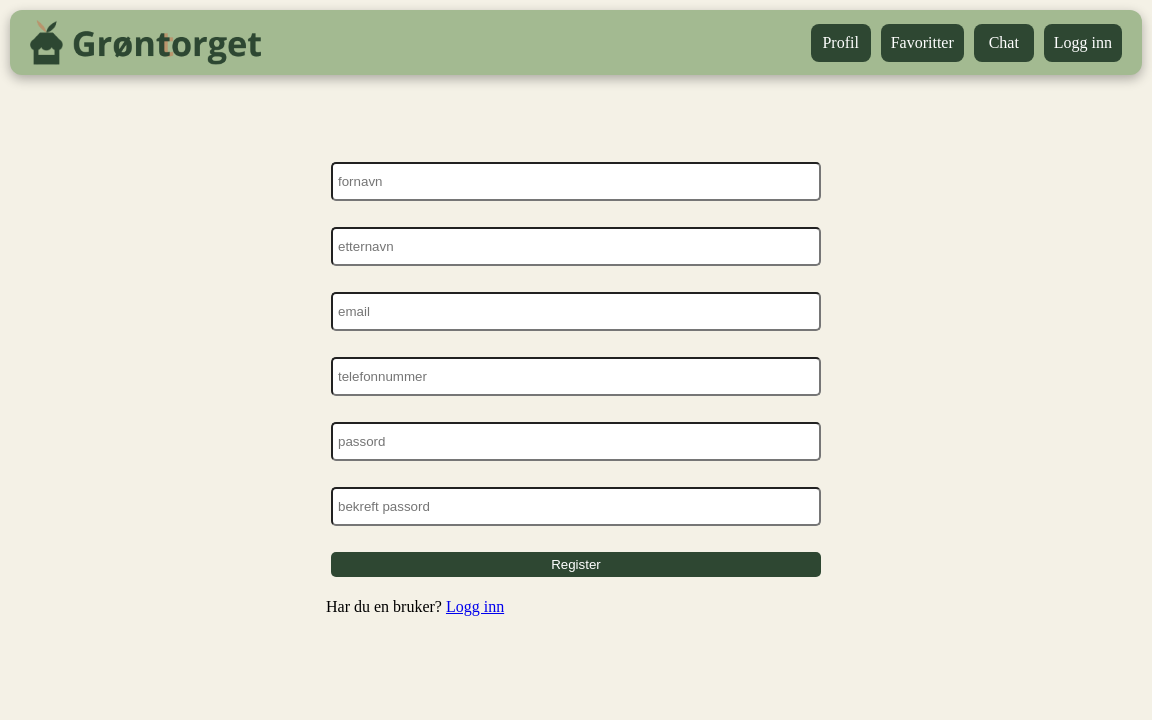
Test case: RegisterComponent › should display error for invalid email
Type "invalid-email" into the field with id "email". click: (576, 312)
box: [331,292,821,331]
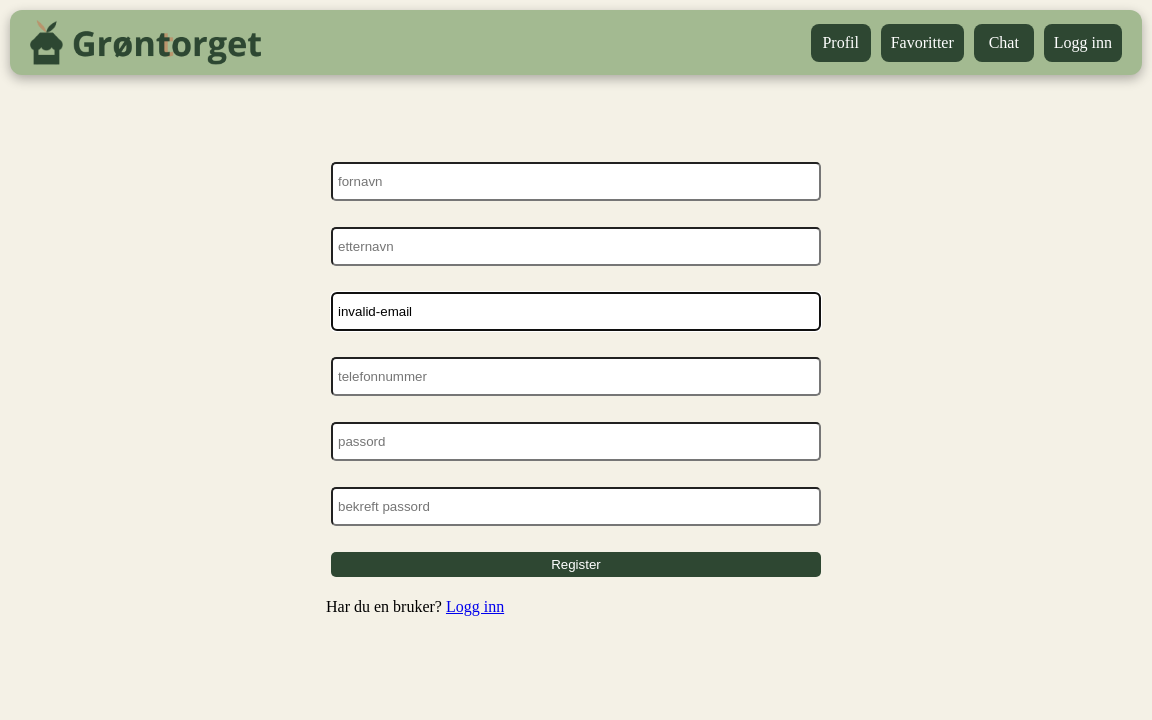
Click the submit button. click: (576, 565)
box: [331,552,821,577]
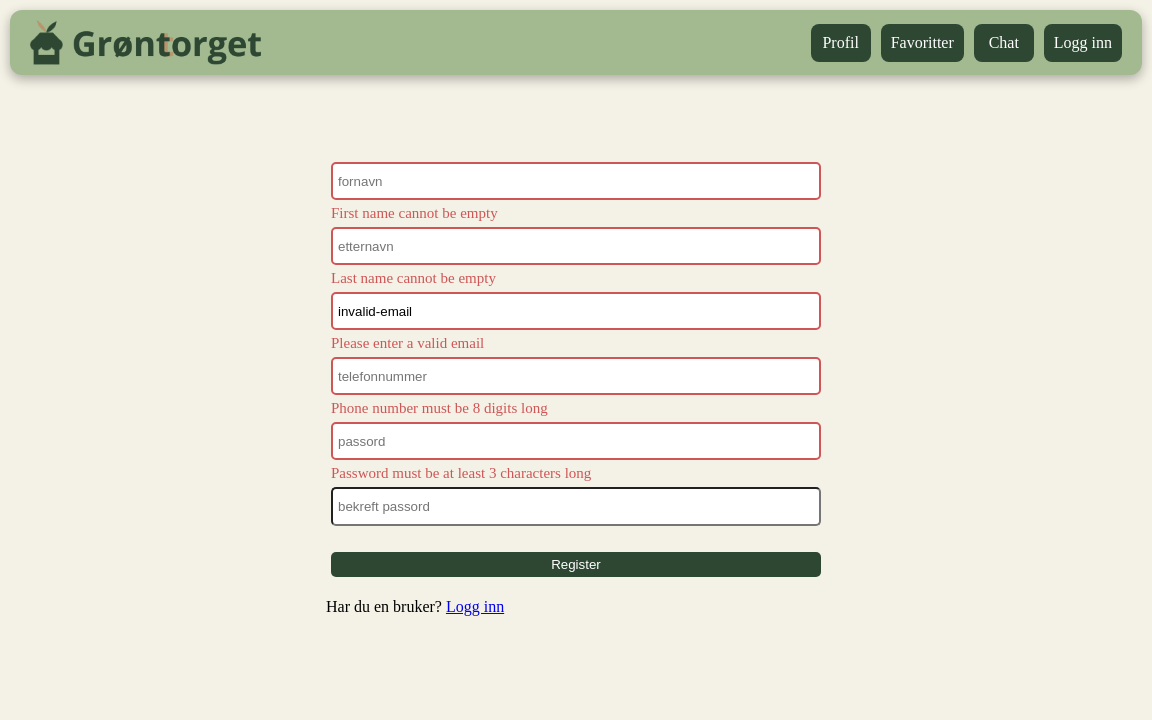
Expected: the text with class "error-message" reads "Please enter a valid email", [331,335,484,351]
